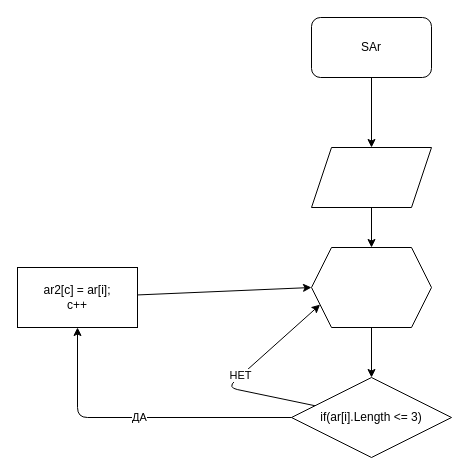
This 469x475 diagram has some shape labels left out. The box of each missing label's shape, as (x1, y1, x2, y2) in pixels:
for (int i = 0; i < ar.Length; i++): (310, 246, 432, 328)
string[] ar string[] ar2 int c =0: (310, 146, 432, 208)
